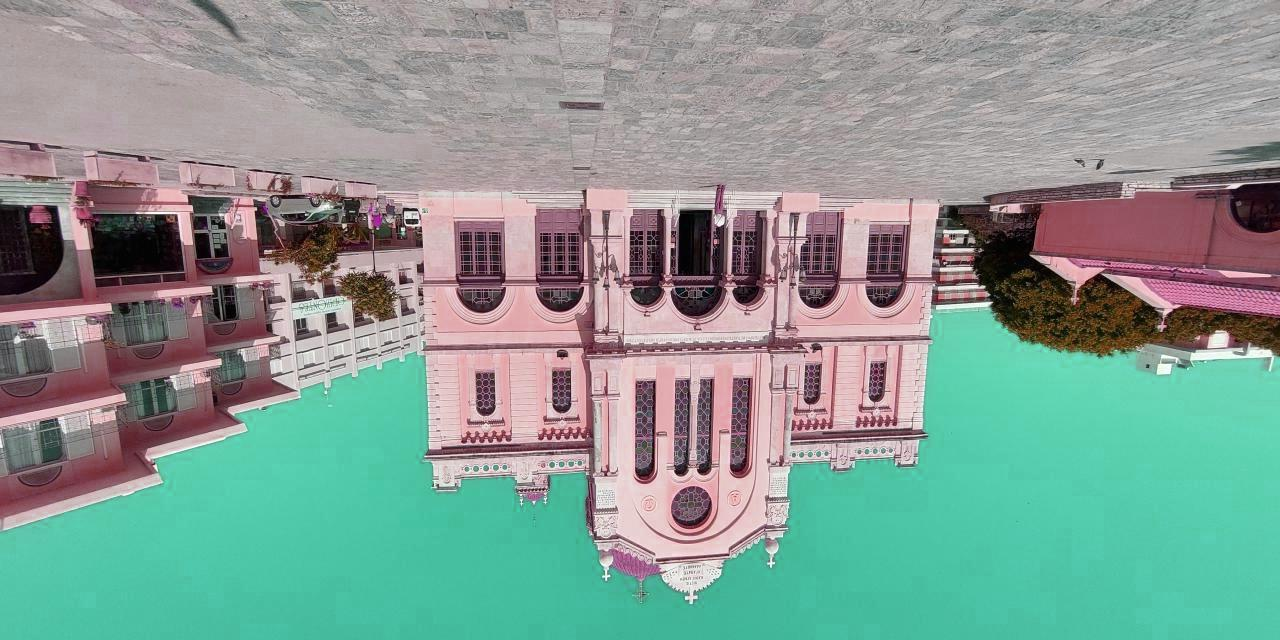Agios Minas: (418, 192, 946, 640)
